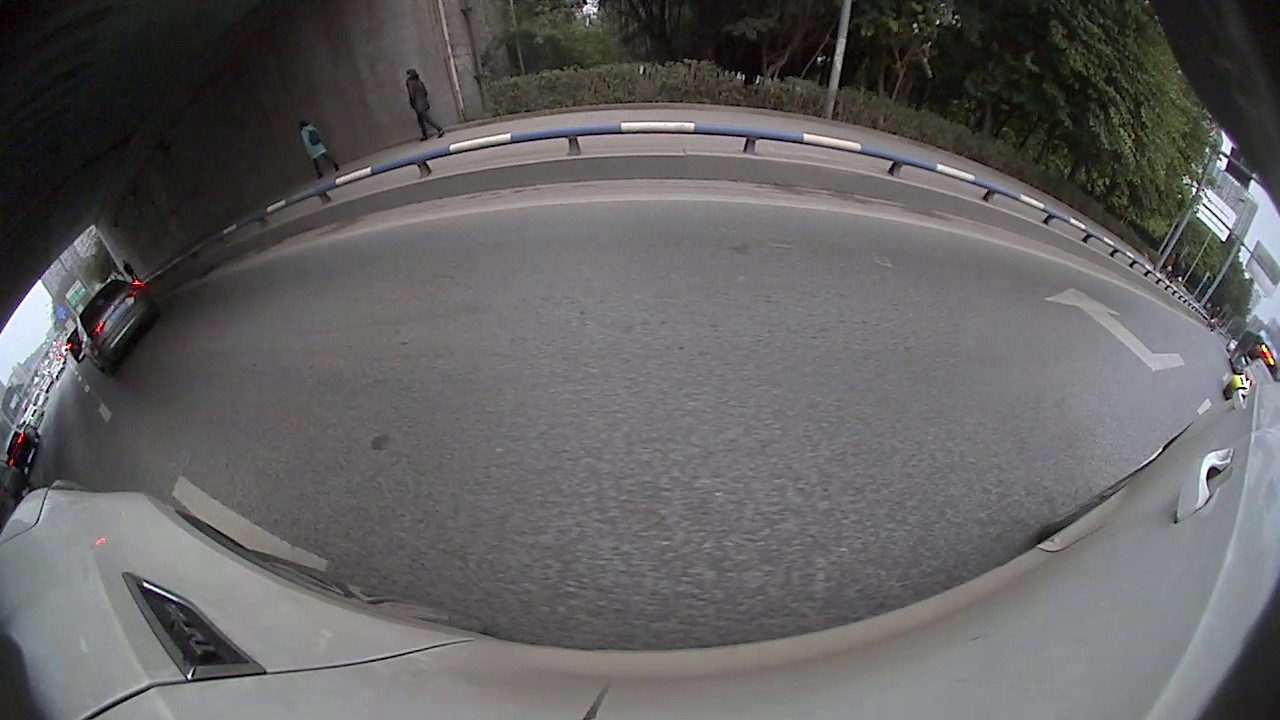car: (76, 277, 163, 378), (1221, 357, 1277, 402), (1, 421, 43, 473)
person: (404, 66, 428, 146), (297, 118, 320, 182)
